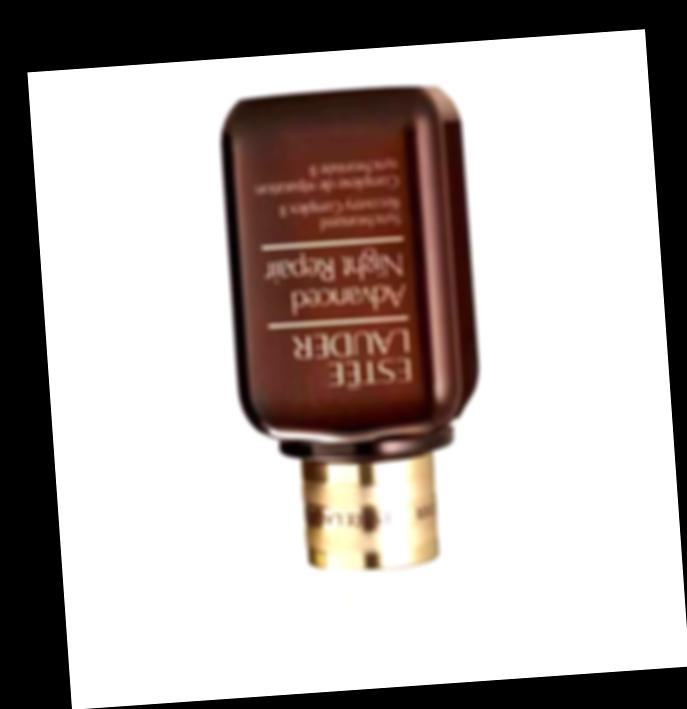cosmetic: (216, 91, 487, 677)
